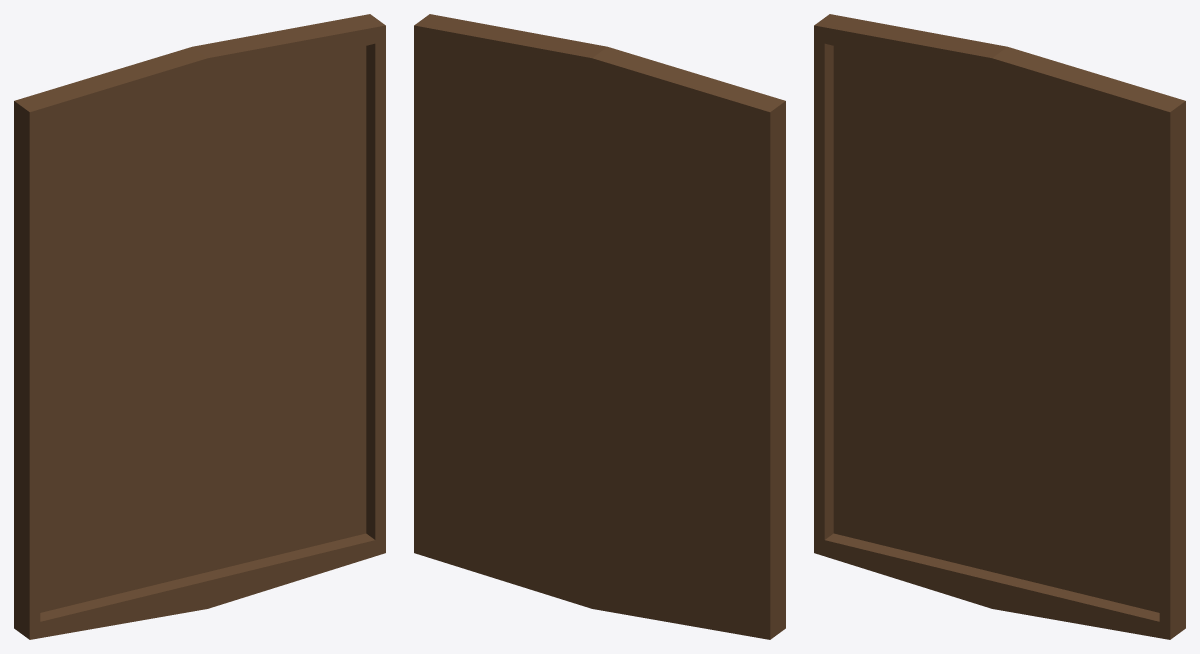
File: Paint frame.fbx
The picture shows the model from 3 angles, left to right: view 1: azimuth 30°, elevation 25°; view 2: azimuth 150°, elevation 25°; view 3: azimuth 330°, elevation 25°; orthographic projection.
Visible parts, largest first — view 1: Cube; view 2: Cube; view 3: Cube.
Part boxes in pixels (box(x1,y1,x2,y2)): Cube: box(14, 14, 385, 639); Cube: box(414, 14, 785, 639); Cube: box(814, 14, 1185, 639).
Bounding box in the file's own units: 606 × 895 × 46.12.
